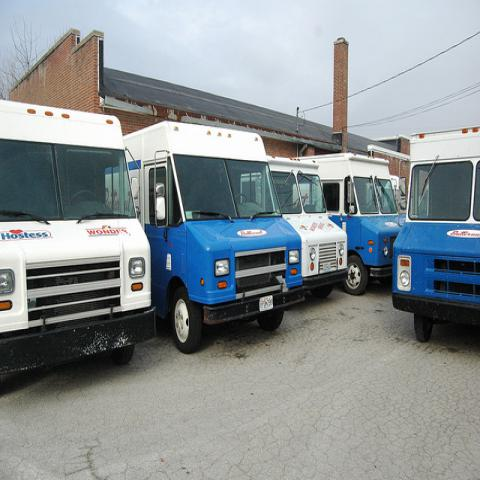truck: (0, 100, 157, 394), (125, 122, 301, 355), (386, 123, 480, 348), (314, 154, 403, 294), (270, 148, 349, 300)
